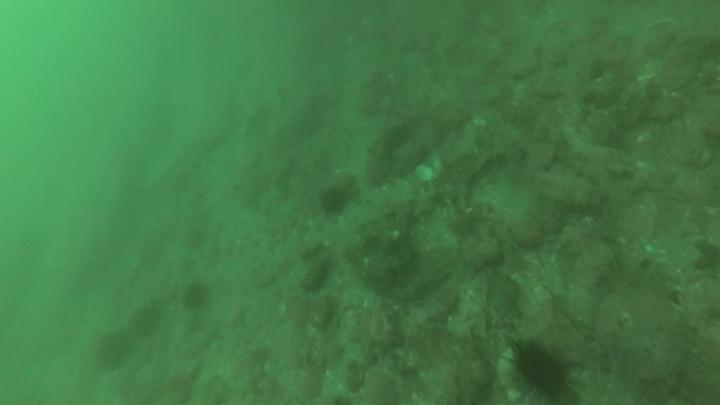echinus: (503, 335, 578, 404), (91, 331, 134, 375), (126, 303, 166, 341), (316, 184, 353, 217), (179, 280, 211, 315)
holothurian: (411, 182, 476, 224)
